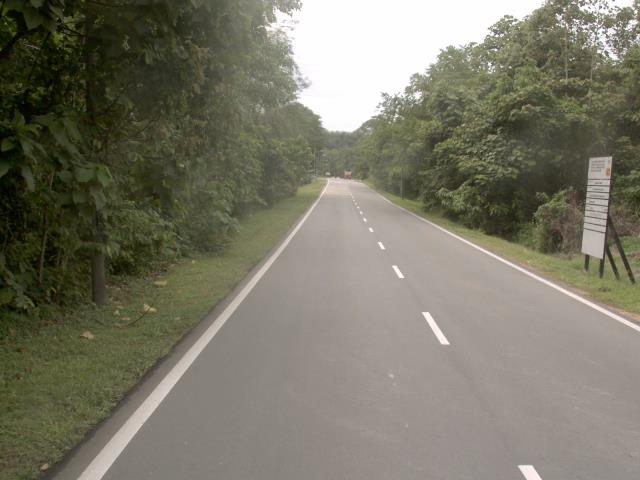ads_sign: (575, 146, 616, 260)
